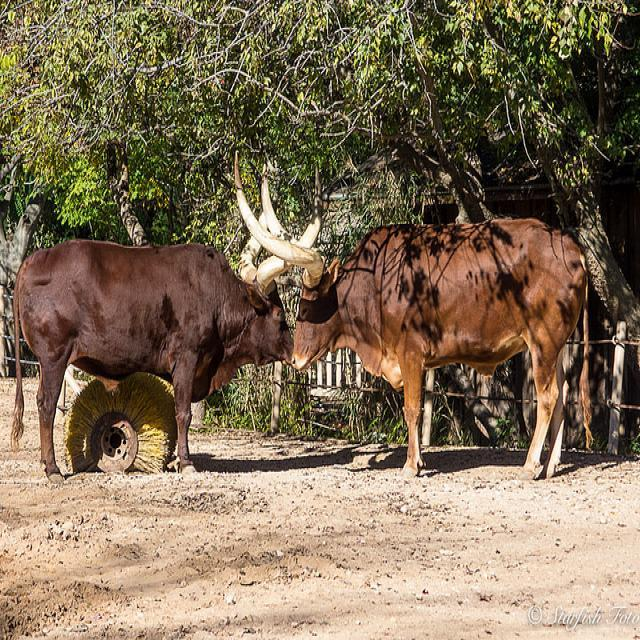cow: (230, 145, 594, 479), (12, 239, 288, 484)
